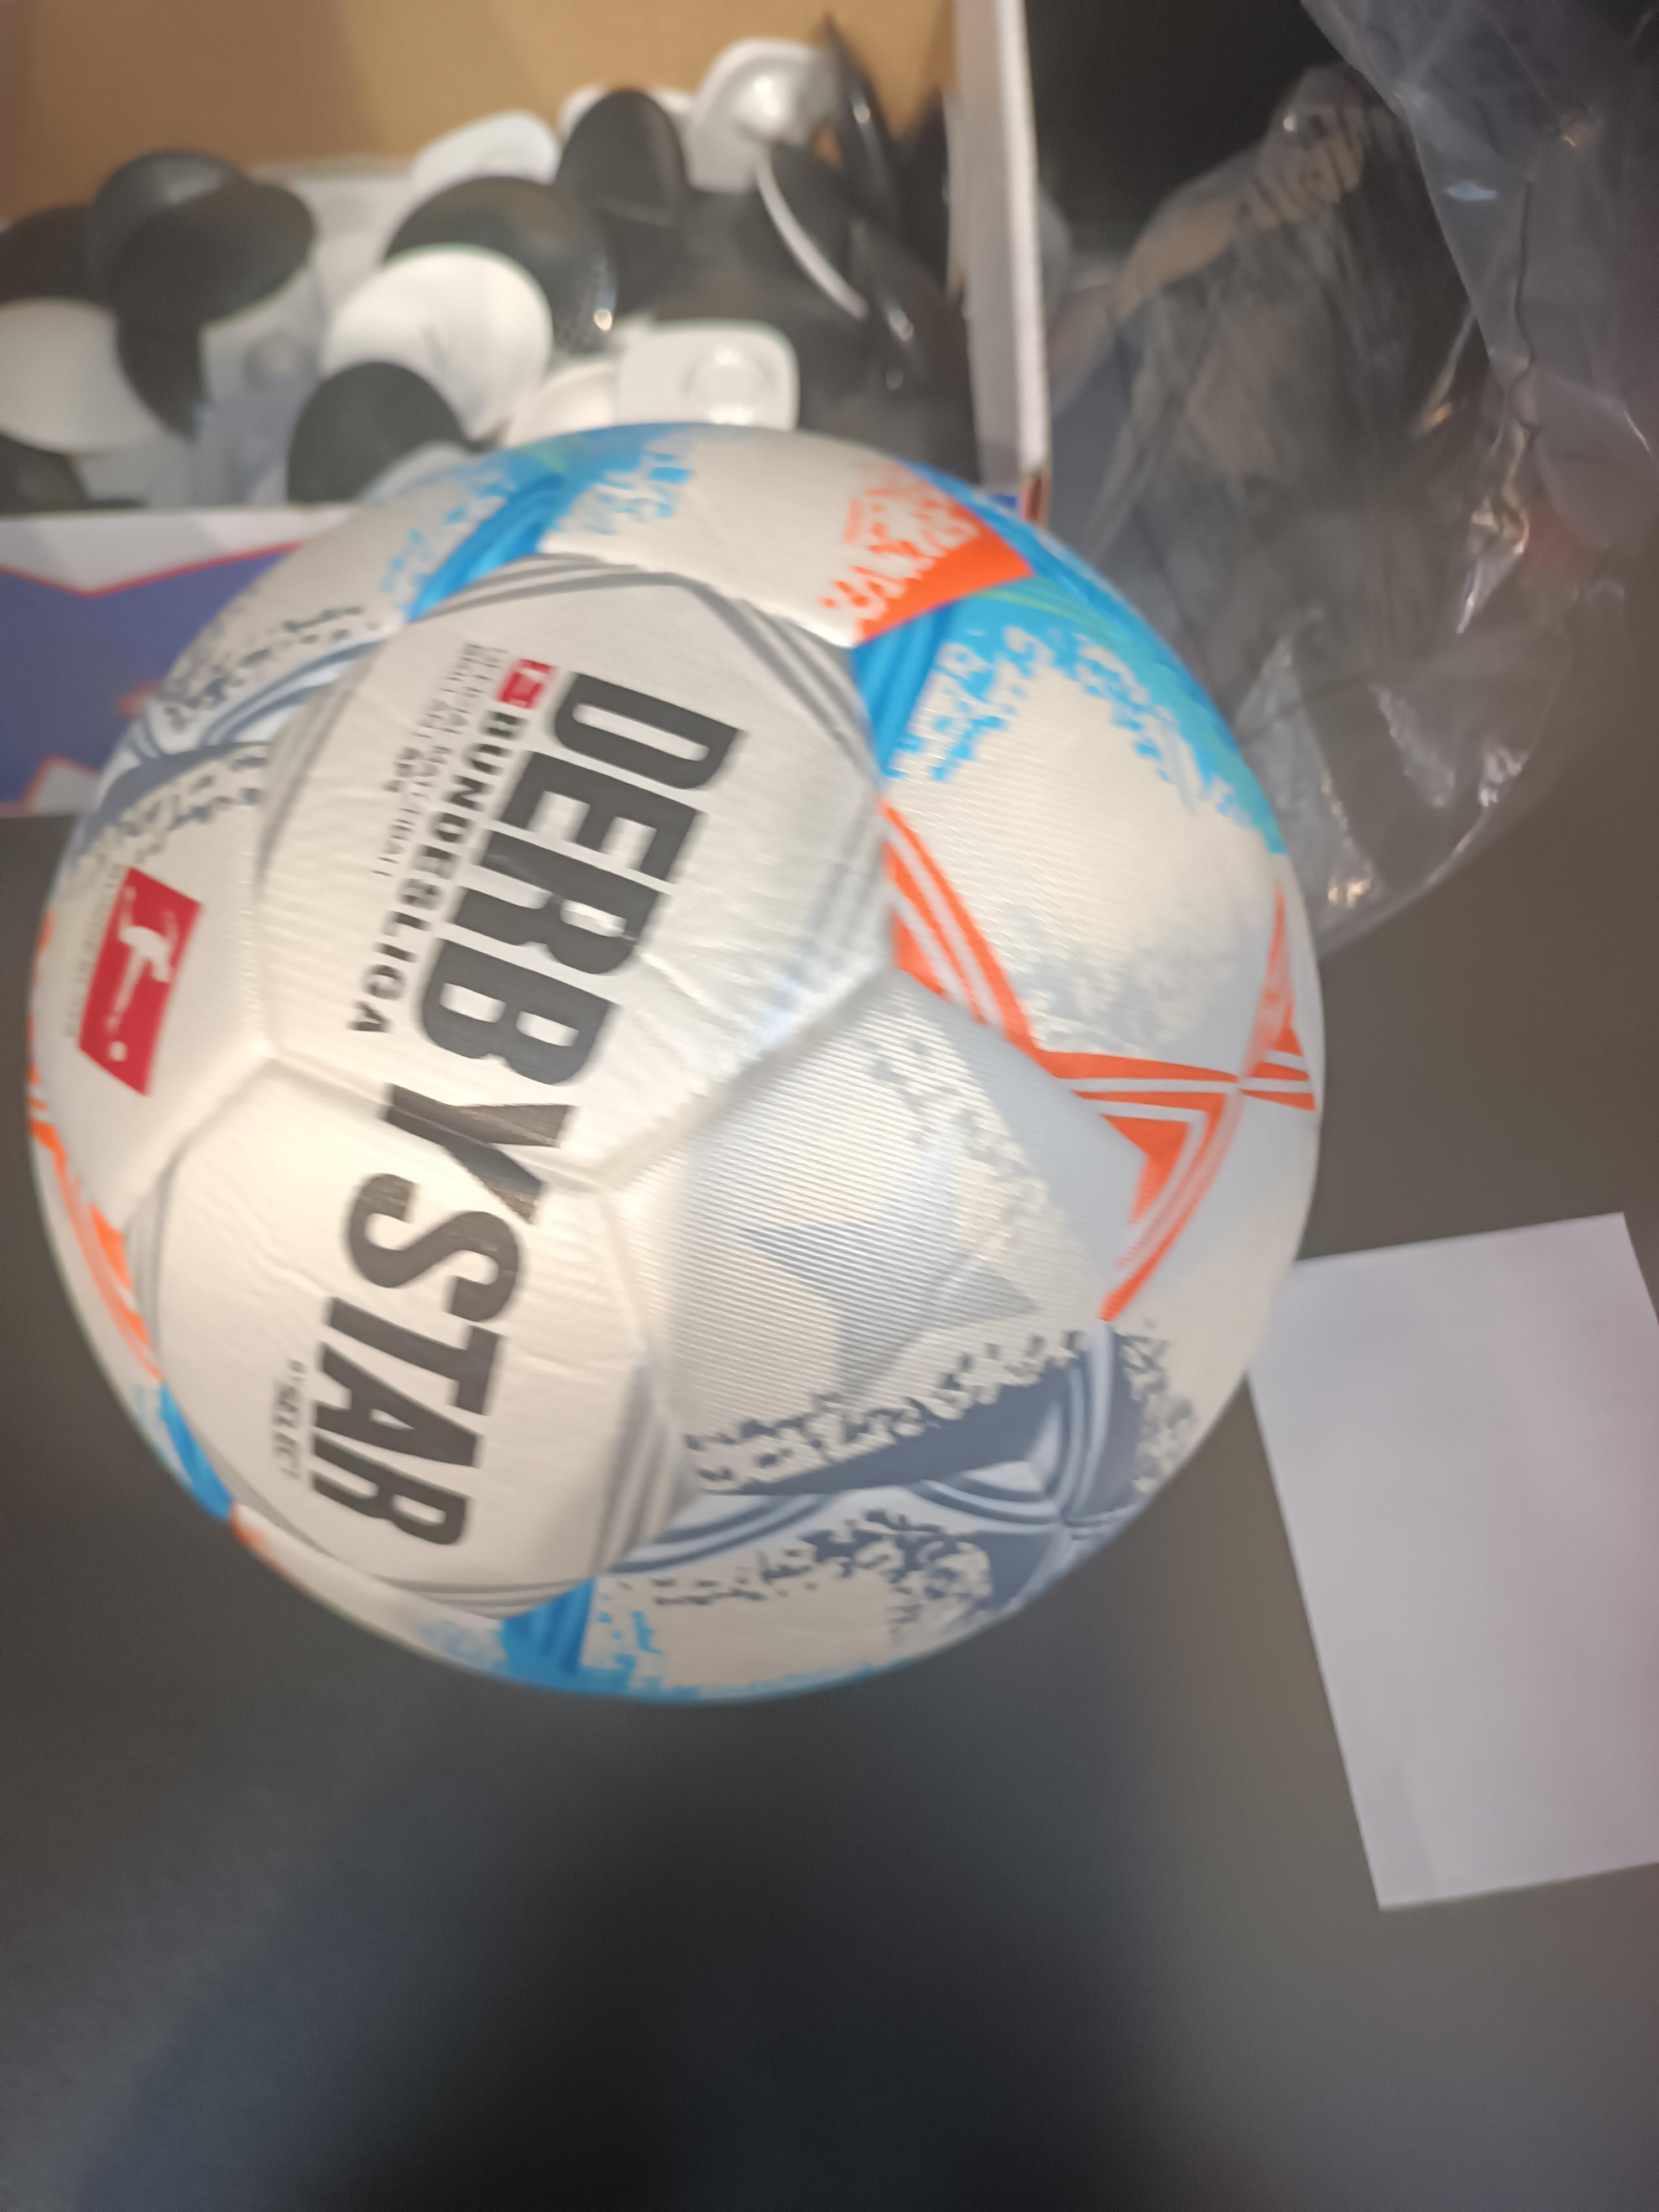Sports-Ball: (30, 423, 1323, 1698)
